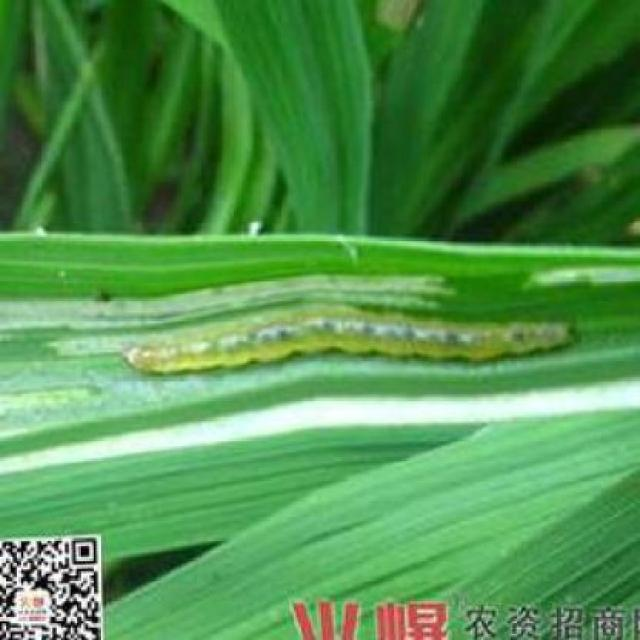leaf-folder: (115, 286, 594, 388)
